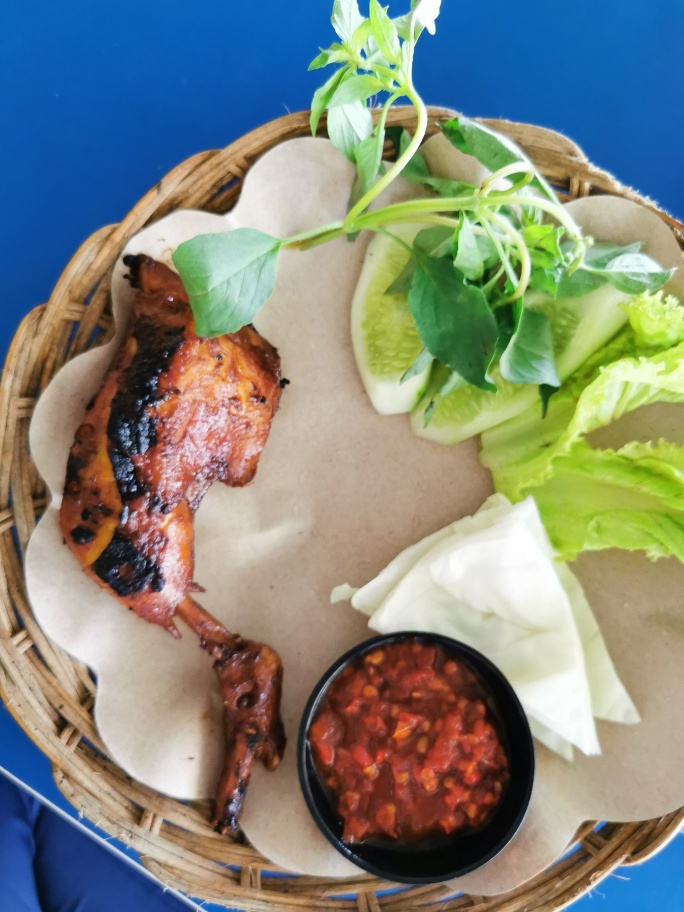ayam bakar: (54, 251, 312, 839)
